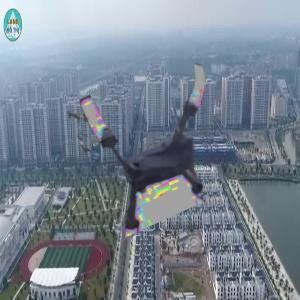drone: (85, 62, 238, 215)
